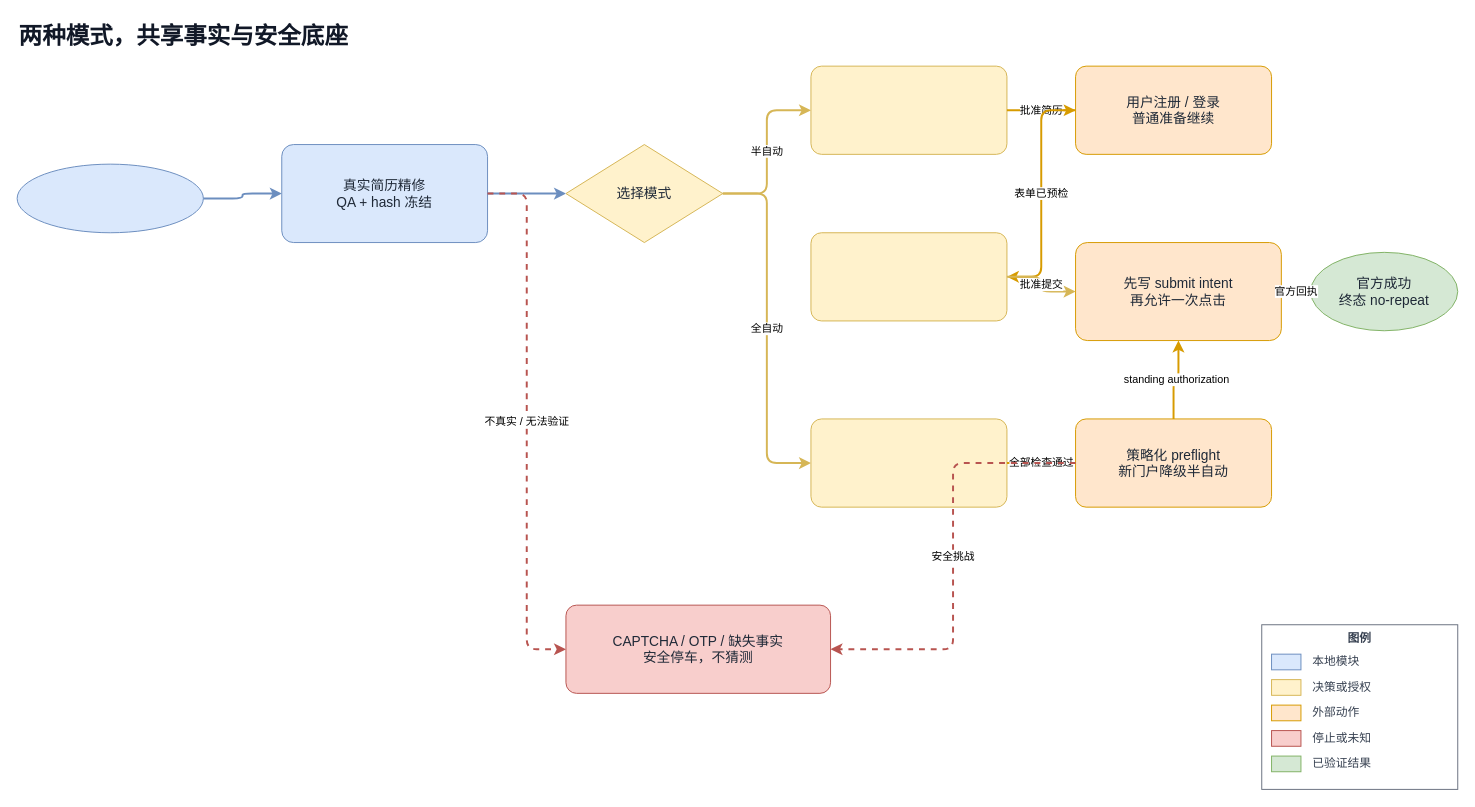
Image size: 1475x807. Some labels were removed from this diagram. Each missing label, with the box of its shape:
Gate 1 审核精确简历 hash: (810, 65, 1007, 154)
Gate 2 审核精确 manifest: (810, 232, 1007, 321)
全自动成熟度 同意、域名、上限: (810, 418, 1007, 507)
官方来源已核验: (16, 163, 203, 233)
